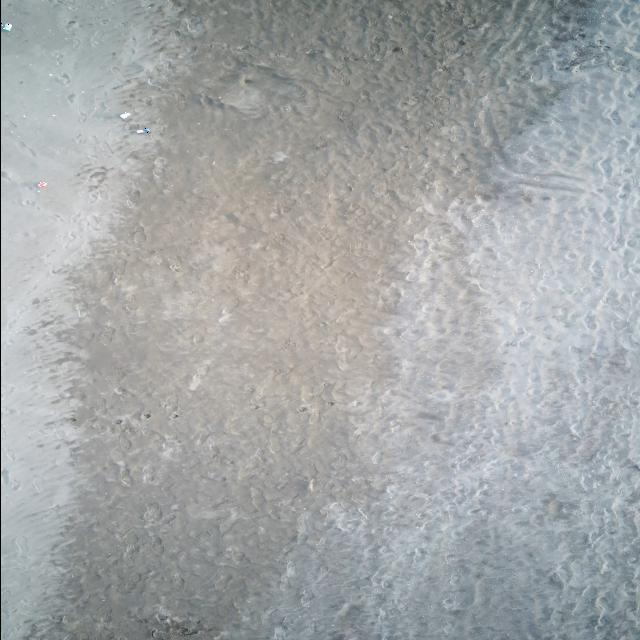Garbage: (0, 22, 12, 31), (36, 180, 47, 187), (120, 111, 129, 119), (138, 127, 150, 132)
